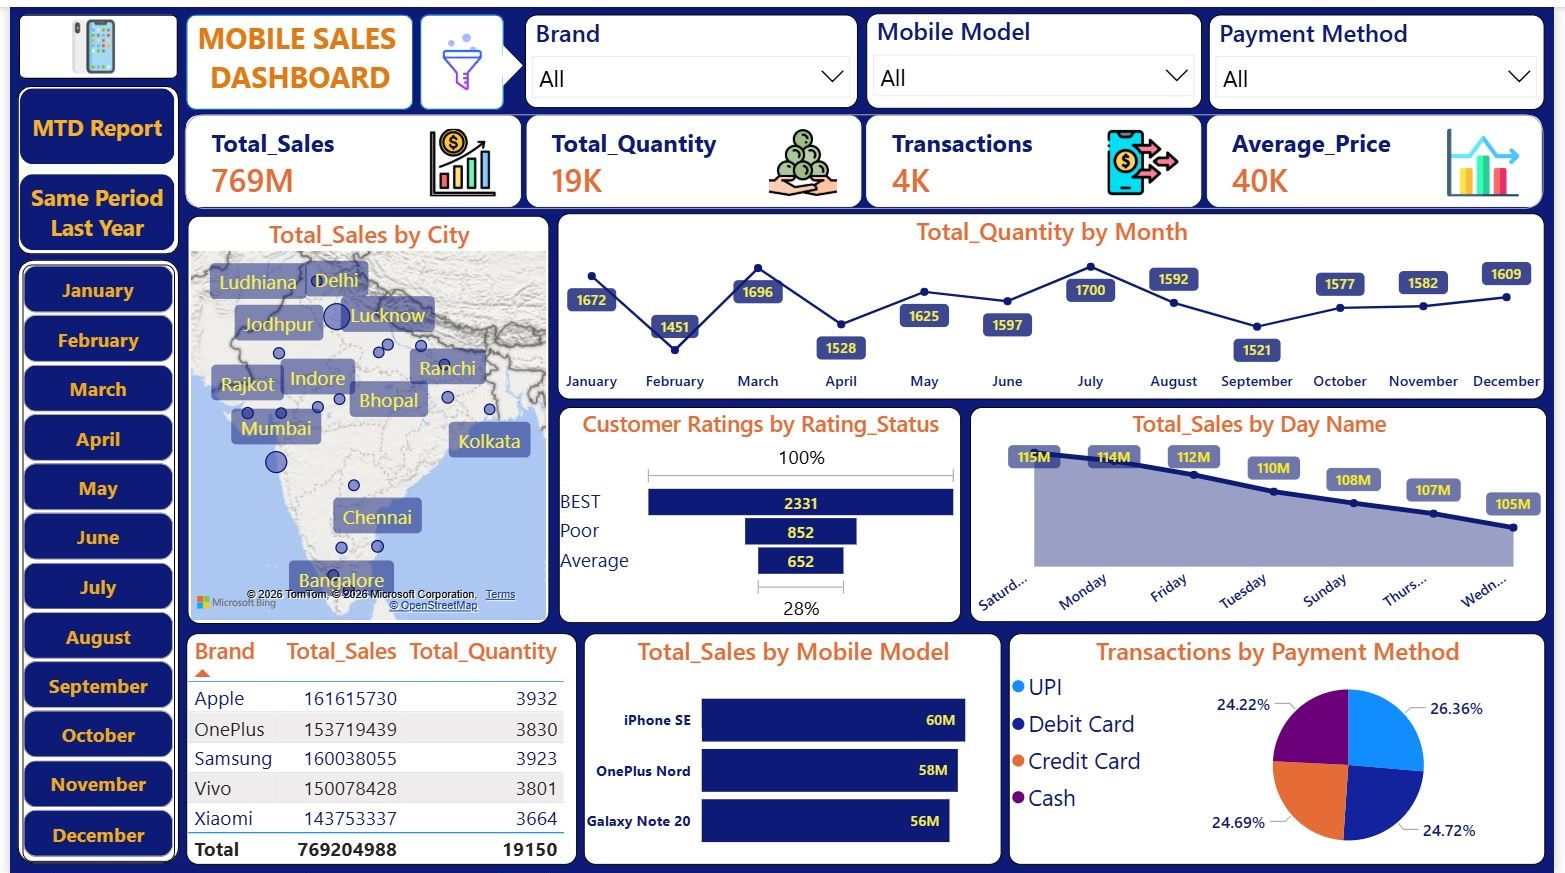

The dashboard page shown, as its layout file describes it:
{"tool":"powerbi","page":{"name":"Dashboard","canvas":[1280,720],"ordinal":0},"visuals":[{"type":"shape","box":[7.2,5.8,132,53.4],"z":0},{"type":"image","box":[14.4,10.1,109.6,44.7],"z":1000},{"type":"shape","box":[5.8,64.9,134,139.9],"z":2000},{"type":"shape","box":[5.8,209.2,134,500.6],"z":3000},{"type":"advancedSlicerVisual","fields":{"Values":["Custom_Calender.Date.Variation.Date Hierarchy.Month"]},"box":[10.1,213.5,126,495],"z":4000},{"type":"cardVisual","fields":{"Data":["Sales_Data.Total_Sales","Sales_Data.Total_Quantity","Sales_Data.Transactions","Sales_Data.Average_Price"]},"box":[141.4,85.1,1135.5,86.6],"z":5000},{"type":"shape","box":[146.2,6,188.2,79.1],"z":6000},{"type":"textbox","box":[155.8,9.6,170.2,69.5],"z":7000},{"type":"shape","box":[340.4,6,69.5,79.1],"z":8000},{"type":"shape","box":[391.9,31.2,33.6,34.8],"z":9000},{"type":"image","box":[346.4,13.2,57.5,63.5],"z":10000},{"type":"slicer","fields":{"Values":["Sales_Data.Brand"]},"box":[426.7,6,275.7,77.9],"z":11000},{"type":"slicer","fields":{"Values":["Sales_Data.Mobile Model"]},"box":[709.5,4.8,278.1,79.1],"z":12000},{"type":"slicer","fields":{"Values":["Sales_Data.Payment Method"]},"box":[993.6,6,278.1,79.1],"z":13000},{"type":"map","fields":{"Category":["Sales_Data.City"],"Size":["Sales_Data.Total_Sales"]},"box":[147.4,172.6,300,338],"z":14000},{"type":"lineChart","fields":{"Category":["Custom_Calender.Date.Variation.Date Hierarchy.Month","Custom_Calender.Date.Variation.Date Hierarchy.Day"],"Y":["Sales_Data.Total_Quantity"]},"box":[454.2,171.4,818.6,154],"z":15000},{"type":"funnel","title":"Customer Ratings by Rating_Status","fields":{"Y":["CountNonNull(Sales_Data.Customer Ratings)"],"Category":["Sales_Data.Rating_Status"]},"box":[454.5,331.8,333.3,178.9],"z":16000},{"type":"pieChart","fields":{"Y":["Sales_Data.Transactions"],"Category":["Sales_Data.Payment Method"]},"box":[828.2,519,444.6,191.8],"z":17000},{"type":"clusteredBarChart","fields":{"Y":["Sales_Data.Total_Sales"],"Category":["Sales_Data.Mobile Model"]},"box":[475.8,519,346.4,191.8],"z":18000},{"type":"tableEx","fields":{"Values":["Sales_Data.Brand","Sales_Data.Total_Sales","Sales_Data.Total_Quantity"]},"box":[146.2,519,324,191.8],"z":19000},{"type":"areaChart","fields":{"Y":["Sales_Data.Total_Sales"],"Category":["Custom_Calender.Day Name"]},"box":[795.8,332,478.2,178.6],"z":20000},{"type":"pageNavigator","box":[8.4,67.1,128.2,135.4],"z":21000}]}

Visuals, with their boxes in screenshot pixels (x1, y1, x2, y2), scaled from the page's 1280x720 canvas onto the 1565x873 screenshot:
shape: <region>9, 7, 170, 72</region>
image: <region>18, 12, 152, 66</region>
shape: <region>7, 79, 171, 248</region>
shape: <region>7, 254, 171, 861</region>
advancedSlicerVisual - Custom_Calender.Date.Variation.Date Hierarchy.Month: <region>12, 259, 166, 859</region>
cardVisual - Sales_Data.Total_Sales x Sales_Data.Total_Quantity: <region>173, 103, 1561, 208</region>
shape: <region>179, 7, 409, 103</region>
textbox: <region>190, 12, 399, 96</region>
shape: <region>416, 7, 501, 103</region>
shape: <region>479, 38, 520, 80</region>
image: <region>424, 16, 494, 93</region>
slicer - Sales_Data.Brand: <region>522, 7, 859, 102</region>
slicer - Sales_Data.Mobile Model: <region>867, 6, 1207, 102</region>
slicer - Sales_Data.Payment Method: <region>1215, 7, 1555, 103</region>
map - Sales_Data.City x Sales_Data.Total_Sales: <region>180, 209, 547, 619</region>
lineChart - Custom_Calender.Date.Variation.Date Hierarchy.Month x Custom_Calender.Date.Variation.Date Hierarchy.Day: <region>555, 208, 1556, 395</region>
"Customer Ratings by Rating_Status" funnel: <region>556, 402, 963, 619</region>
pieChart - Sales_Data.Transactions x Sales_Data.Payment Method: <region>1013, 629, 1556, 862</region>
clusteredBarChart - Sales_Data.Total_Sales x Sales_Data.Mobile Model: <region>582, 629, 1005, 862</region>
tableEx - Sales_Data.Brand x Sales_Data.Total_Sales: <region>179, 629, 575, 862</region>
areaChart - Sales_Data.Total_Sales x Custom_Calender.Day Name: <region>973, 403, 1558, 619</region>
pageNavigator: <region>10, 81, 167, 246</region>
